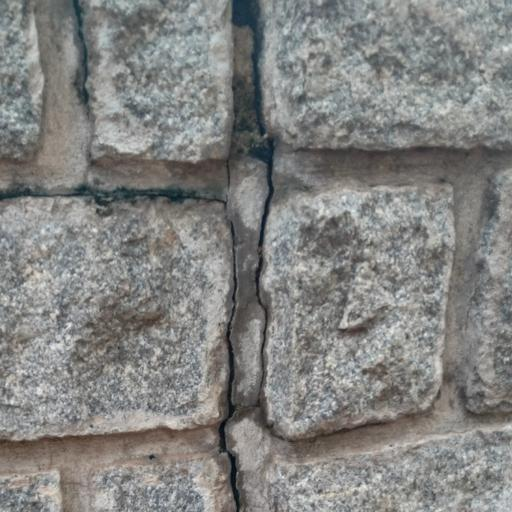major_crack: (151, 0, 303, 512), (1, 154, 240, 238), (60, 0, 114, 134)
